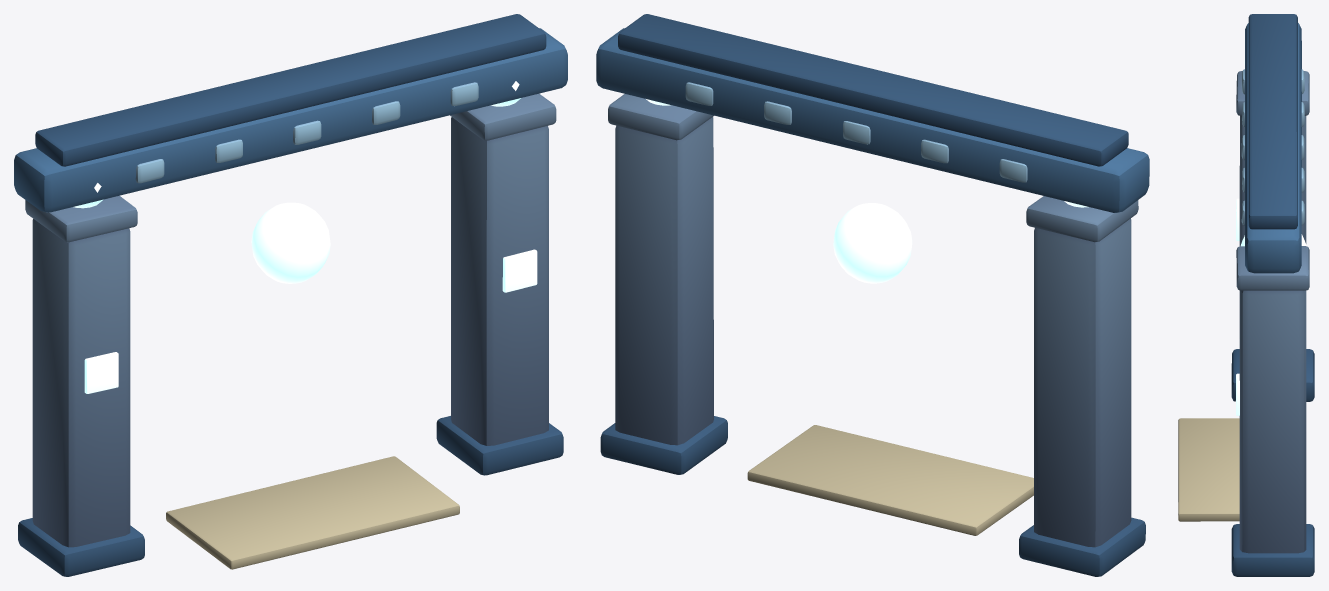
3 renders of one model, left to right at view 1: azimuth 30°, elevation 25°; view 2: azimuth 150°, elevation 25°; view 3: azimuth 270°, elevation 25°, orthographic. The views are drawn at different scales.
Visible parts, largest first — view 1: gate_15dd1b66; view 2: gate_15dd1b66; view 3: gate_15dd1b66.
Part boxes in pixels (<box>): gate_15dd1b66: <box>14,14,567,576</box>; gate_15dd1b66: <box>596,14,1149,576</box>; gate_15dd1b66: <box>1178,14,1314,576</box>.
Bounding box in the file's own units: 5.52 × 4.21 × 1.44.
